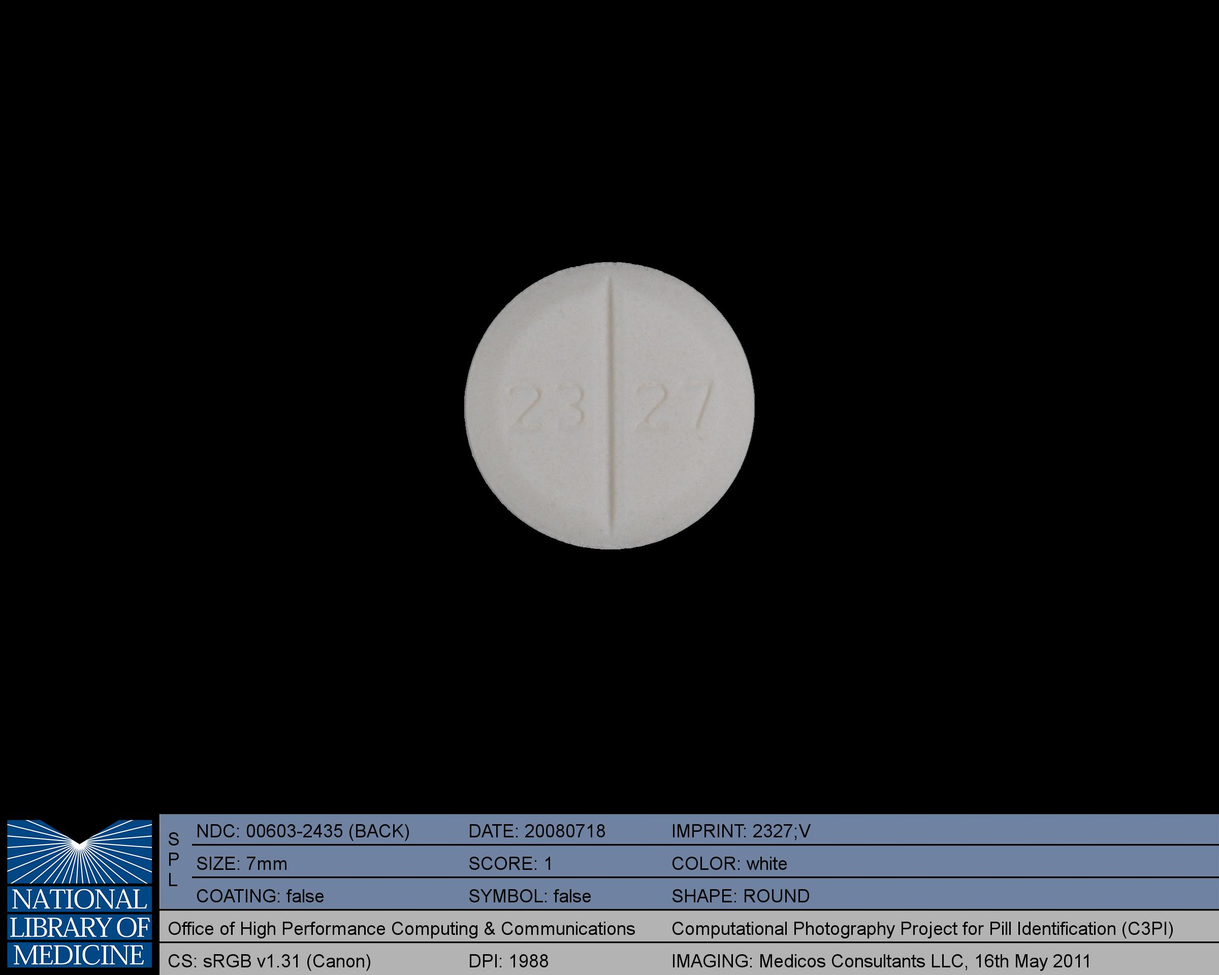Pill: (450, 245, 767, 560)
